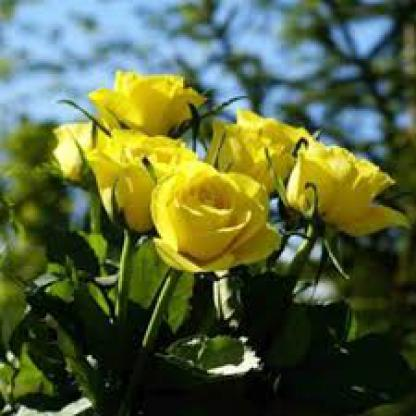Rose-Mawar: (42, 60, 412, 273)
